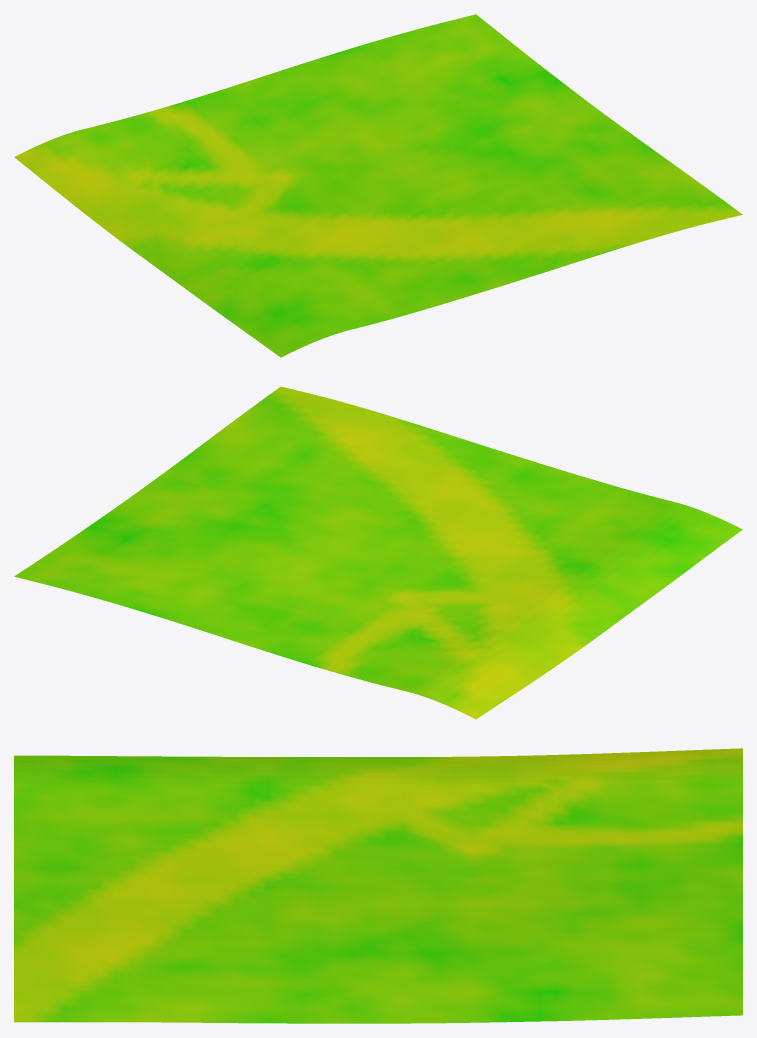
Rendered from terrain_3_3.glb.
3 views of the same model, one above another, from view 1: azimuth 30°, elevation 25°; view 2: azimuth 150°, elevation 25°; view 3: azimuth 270°, elevation 25° (orthographic). The views are drawn at different scales.
Visible parts, largest first — view 1: terrain_3_3; view 2: terrain_3_3; view 3: terrain_3_3.
Part boxes in pixels (x1,y1,x2,y2): terrain_3_3: [14, 14, 742, 357]; terrain_3_3: [14, 386, 742, 719]; terrain_3_3: [14, 748, 742, 1023].
Size of the model in its own units: 85 by 6.39 by 85.
